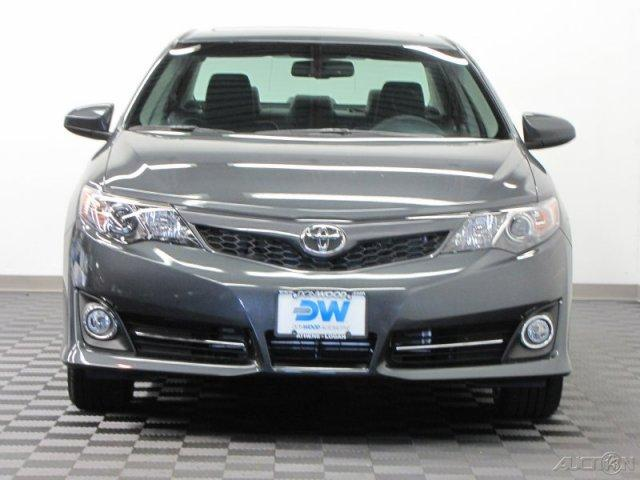Sedan: (59, 24, 576, 422)
